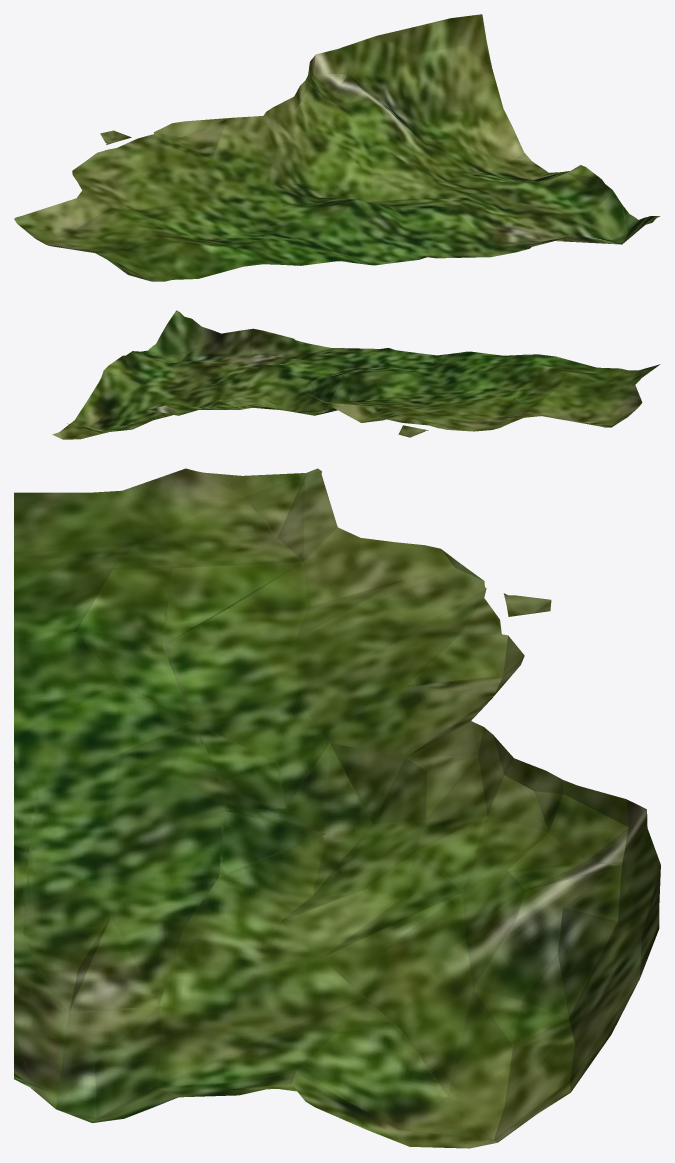
3 renders of one model, top to bottom at view 1: azimuth 30°, elevation 25°; view 2: azimuth 150°, elevation 25°; view 3: azimuth 270°, elevation 25°, orthographic. The views are drawn at different scales.
Size of the model in its own units: 1.67 by 0.3174 by 0.9456.
Materials: 1 (1 with a texture image).
